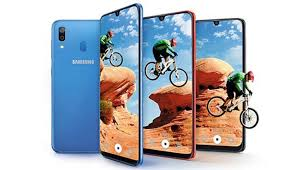samsung: (50, 16, 103, 156)
